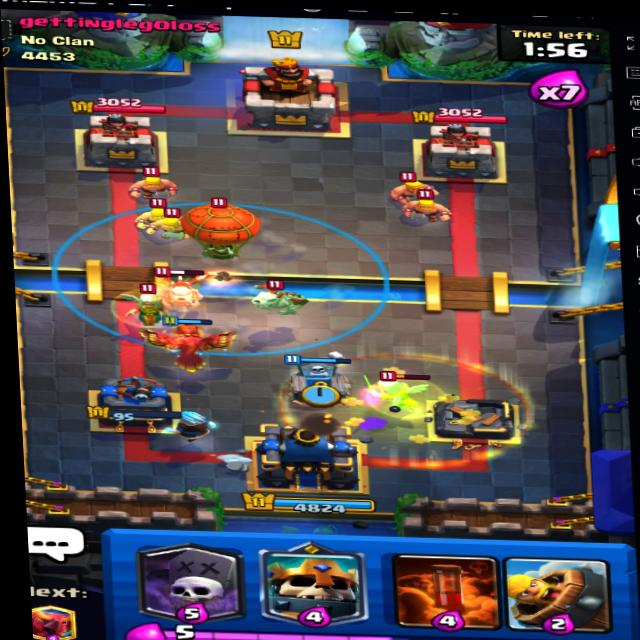balloon: (184, 195, 264, 261)
barbarian: (134, 199, 195, 228), (399, 188, 451, 222), (130, 168, 179, 203), (153, 210, 205, 241), (386, 173, 440, 199)
battle-healer: (369, 366, 455, 419), (113, 280, 184, 336)
skeleton-dragon: (244, 277, 324, 315), (148, 267, 217, 307)
